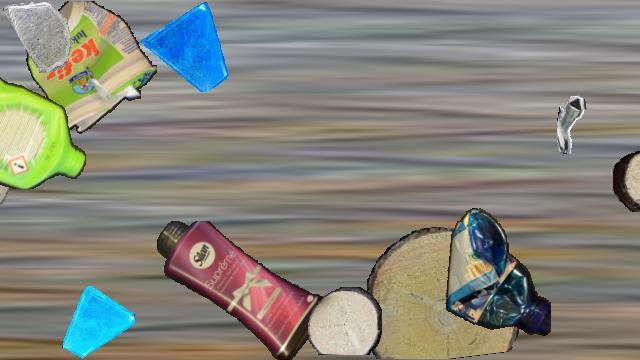glass: (141, 1, 231, 91), (60, 285, 134, 359), (3, 1, 75, 73)
metal: (557, 95, 619, 157)
plastic: (156, 221, 328, 359), (25, 1, 157, 139), (442, 206, 550, 342), (0, 56, 87, 188), (636, 146, 640, 212)
wood: (363, 227, 523, 359), (308, 287, 382, 355), (613, 145, 640, 211), (0, 134, 9, 208)
